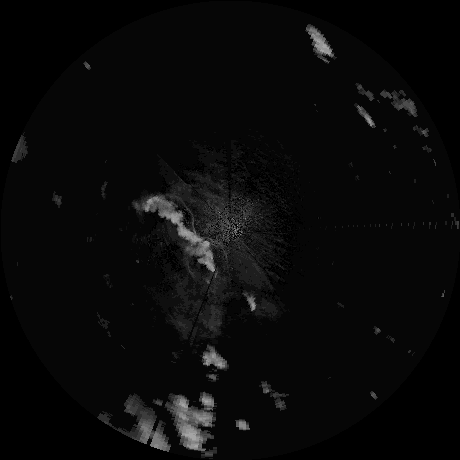frontgust: (158, 192, 195, 231), (197, 233, 226, 263)
